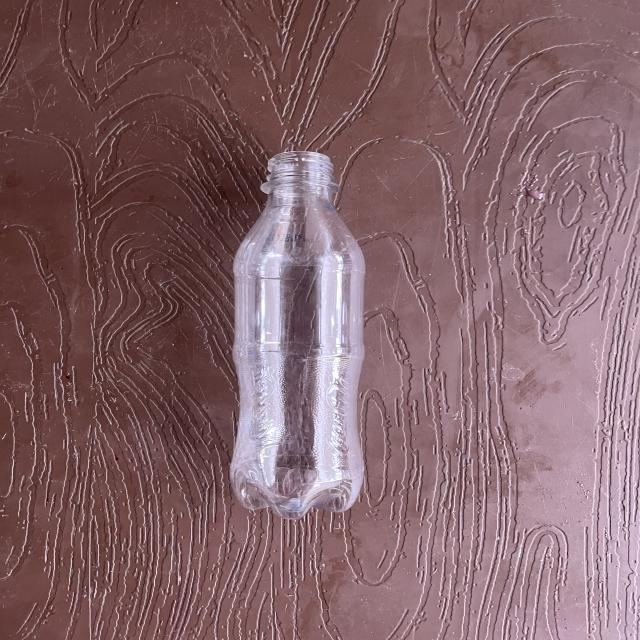PET_ClearBottle: (218, 144, 373, 640)
